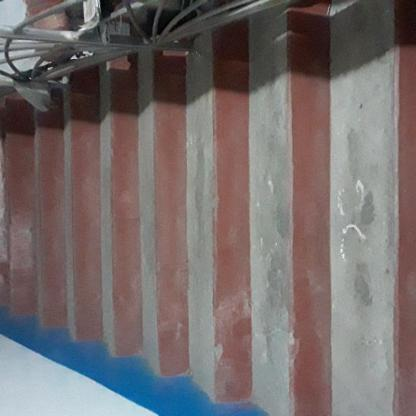stair: (0, 44, 416, 396)
